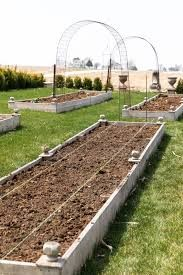dirt: (1, 122, 158, 259)
grass: (143, 127, 179, 274), (0, 124, 55, 172), (105, 198, 141, 271), (56, 110, 81, 139), (21, 110, 55, 122)
